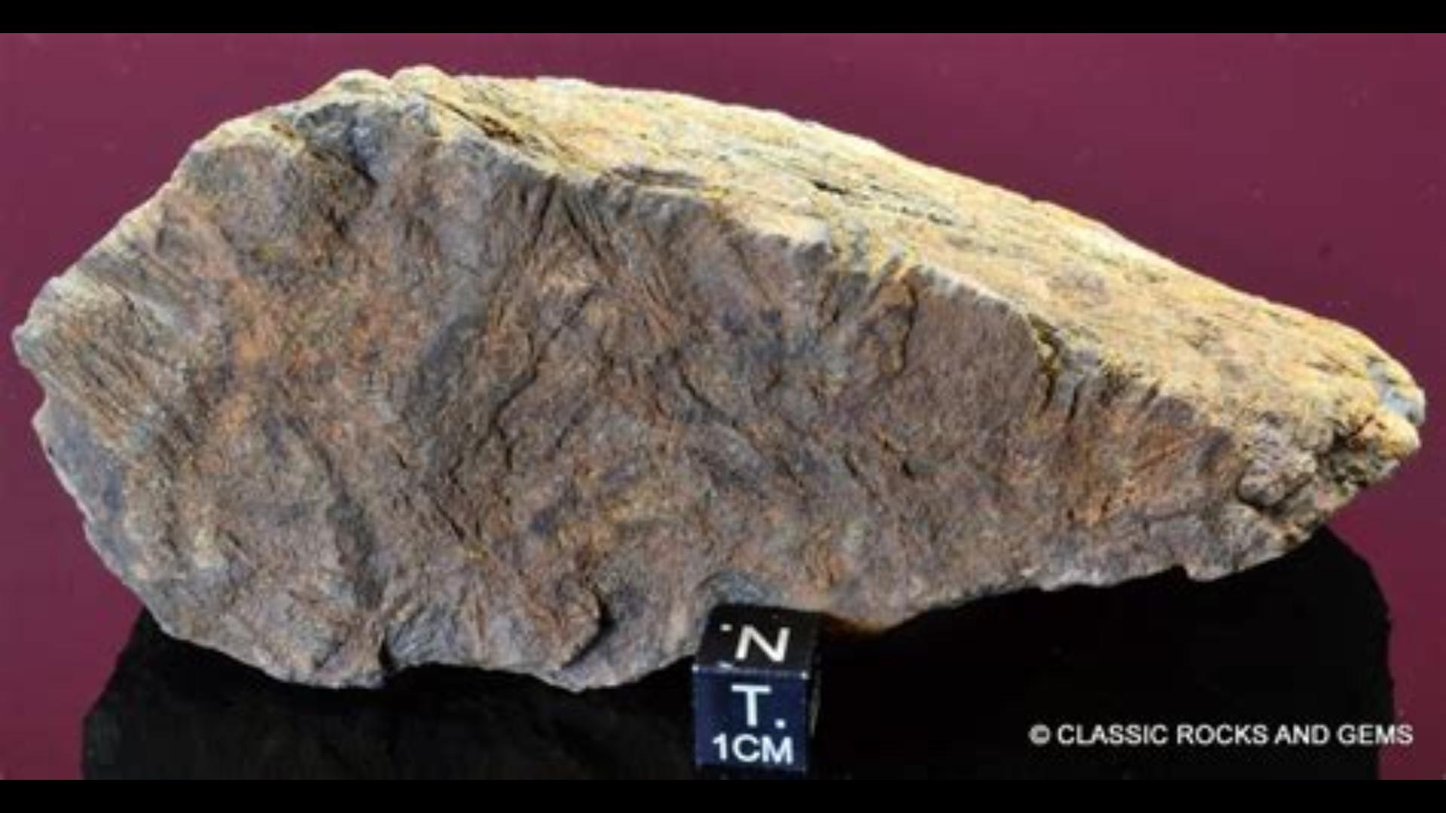rock: (15, 67, 1422, 686)
